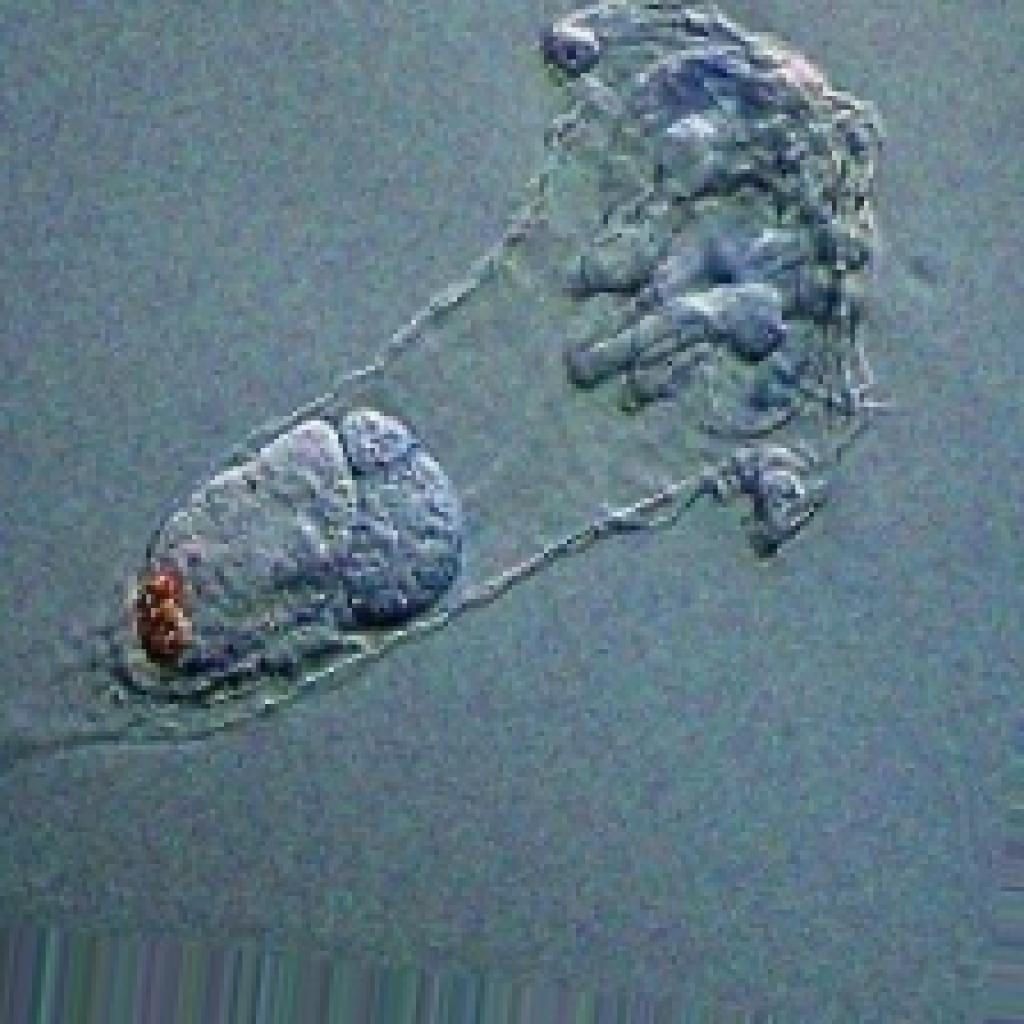Rotifer: (102, 0, 985, 835)
